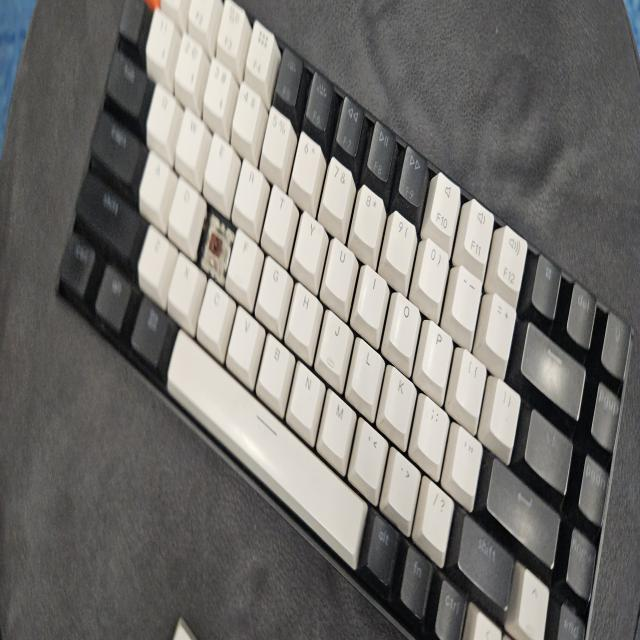C: (207, 223, 225, 268)
